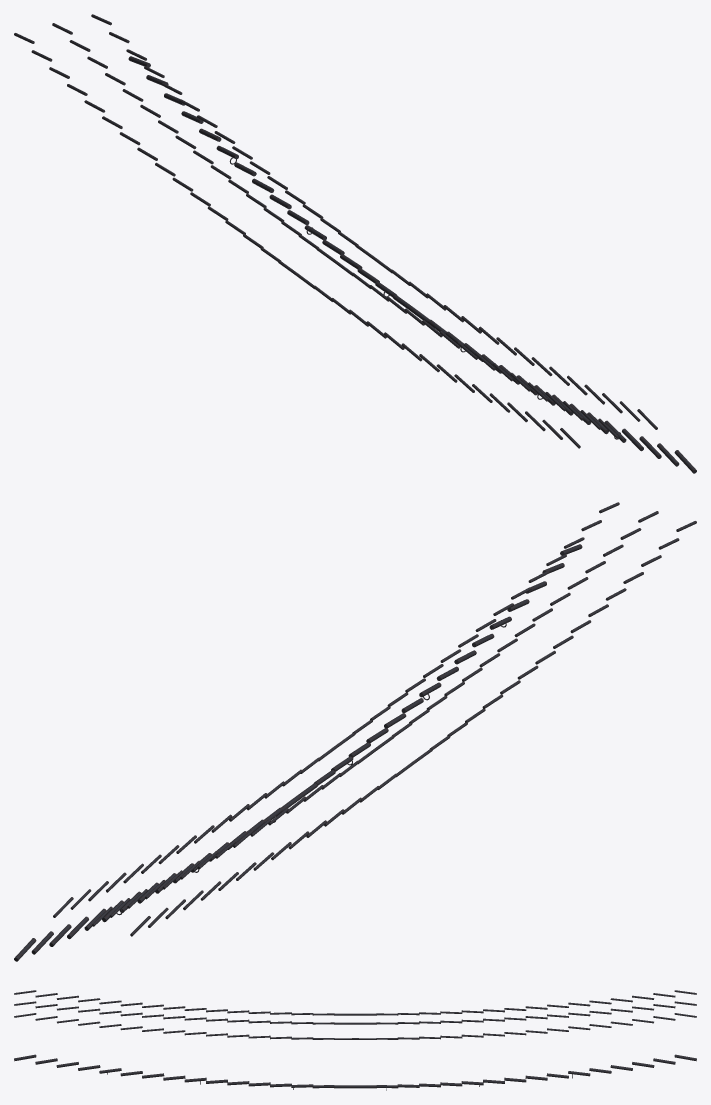
Rendered from OverheadCables_Span.fbx.
The picture shows the model from 3 angles, top to bottom: view 1: azimuth 30°, elevation 25°; view 2: azimuth 150°, elevation 25°; view 3: azimuth 270°, elevation 25°; orthographic projection. The views are drawn at different scales.
Visible parts, largest first — view 1: OverheadCables_Span; view 2: OverheadCables_Span; view 3: OverheadCables_Span.
Boxes of the visible parts, x1=… form: OverheadCables_Span: x1=14, y1=14, x2=696, y2=473; OverheadCables_Span: x1=14, y1=502, x2=696, y2=961; OverheadCables_Span: x1=14, y1=990, x2=696, y2=1090.
Bounding box in the file's own units: 1.36 × 1.18 × 11.02.
